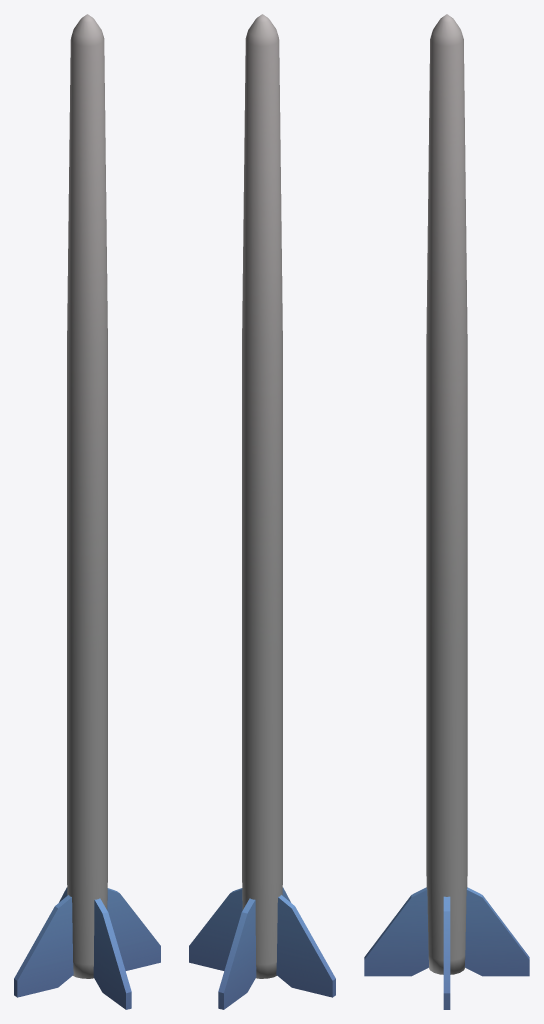
File: chudy.fbx
3 renders of one model, left to right at view 1: azimuth 30°, elevation 25°; view 2: azimuth 150°, elevation 25°; view 3: azimuth 270°, elevation 25°, orthographic.
Visible parts, largest first — view 1: chudy; view 2: chudy; view 3: chudy.
Boxes of the visible parts, <box> form: chudy: <box>14,14,160,1009</box>; chudy: <box>189,14,335,1009</box>; chudy: <box>364,14,529,1009</box>.
Bounding box in the file's own units: 22.89 × 147 × 22.89.
1 material, 1 textured.
